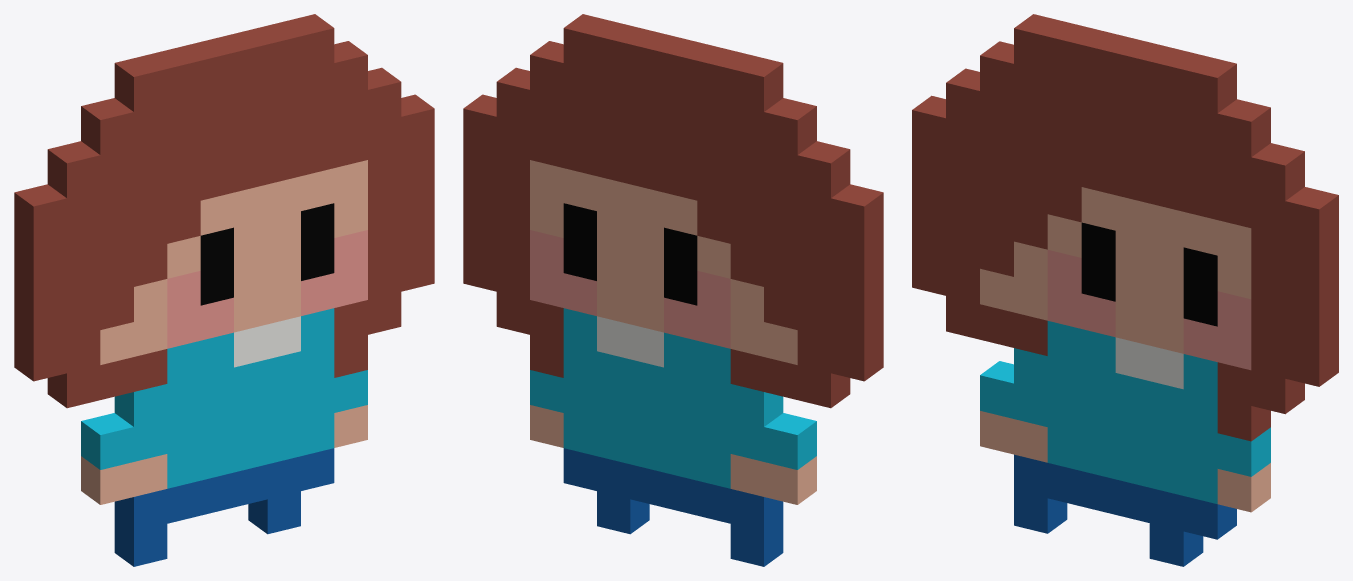
The model's file is player_idle.obj.
3 renders of one model, left to right at view 1: azimuth 30°, elevation 25°; view 2: azimuth 150°, elevation 25°; view 3: azimuth 330°, elevation 25°, orthographic.
Bounding box in the file's own units: 1.2 × 1.4 × 0.1.
Materials: 1 (1 with a texture image).
